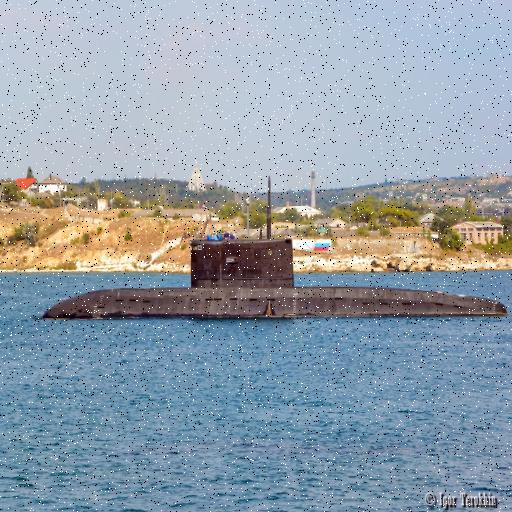submarine: (42, 239, 510, 319)
